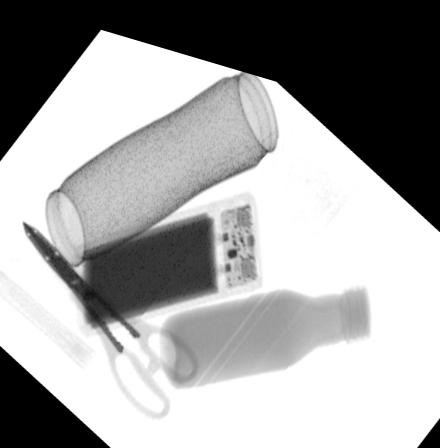Powerbank: (75, 178, 261, 331)
Scissors: (16, 215, 200, 410)
